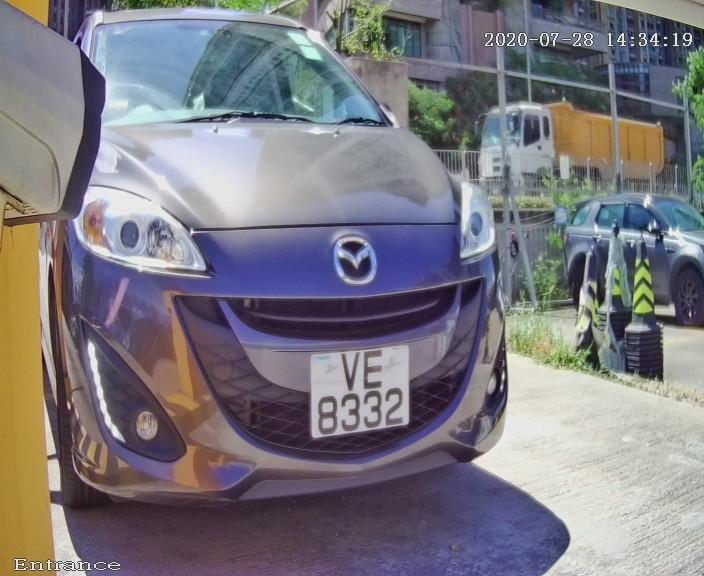privatecar: (23, 3, 557, 559)
